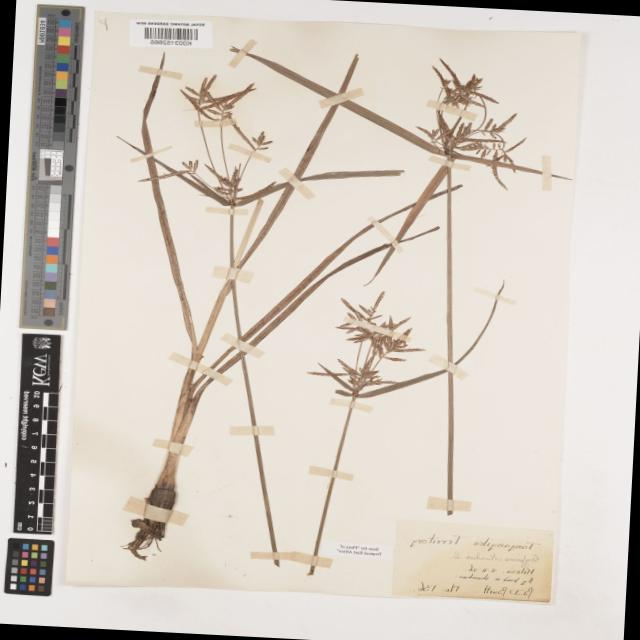cyperus: (316, 283, 429, 408), (408, 64, 522, 178), (168, 156, 282, 217), (174, 73, 261, 134), (246, 126, 274, 156)
